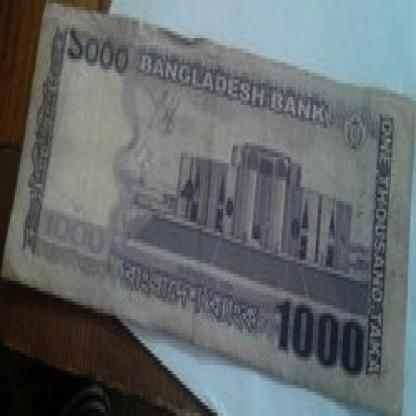One Thousand taka: (275, 295, 366, 378), (68, 24, 130, 80)
